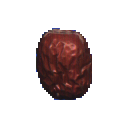gd: (16, 19, 117, 111)
